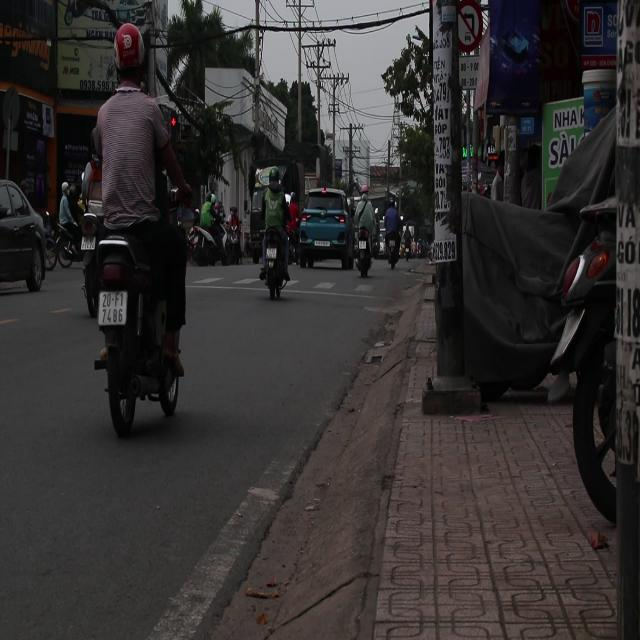car: (0, 179, 50, 295), (295, 187, 353, 269)
motorbike: (88, 223, 186, 434), (258, 224, 293, 299), (45, 218, 81, 269), (185, 223, 222, 267), (221, 222, 242, 266), (356, 224, 372, 276)
